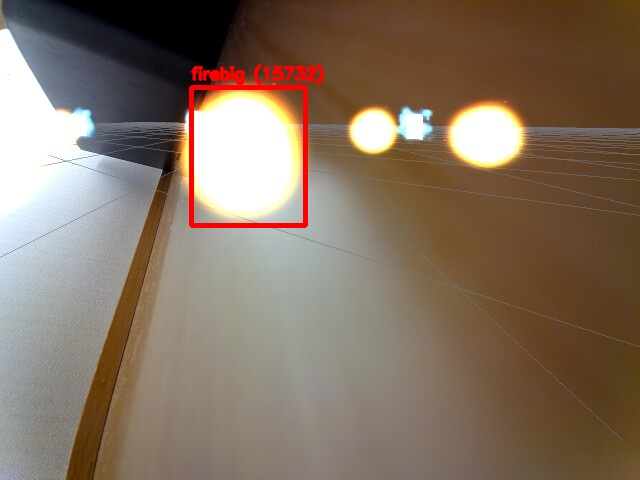firebig: (191, 87, 305, 225)
